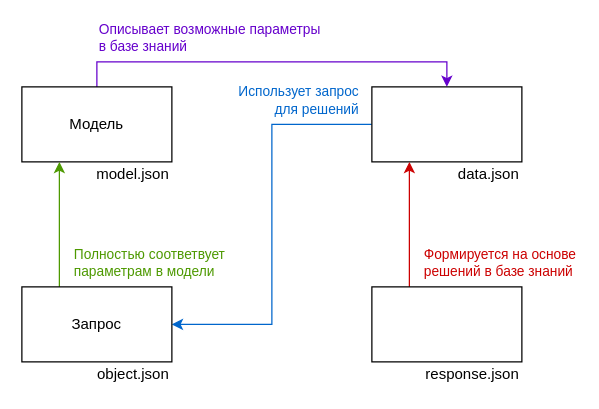
The diagram is 599 pixels wide and 409 high, and some of its shapes have lost their labels. Each missing label, with the centre of its shape:
"База знаний" belongs at point 446,124.
"Результат" belongs at point 446,324.
